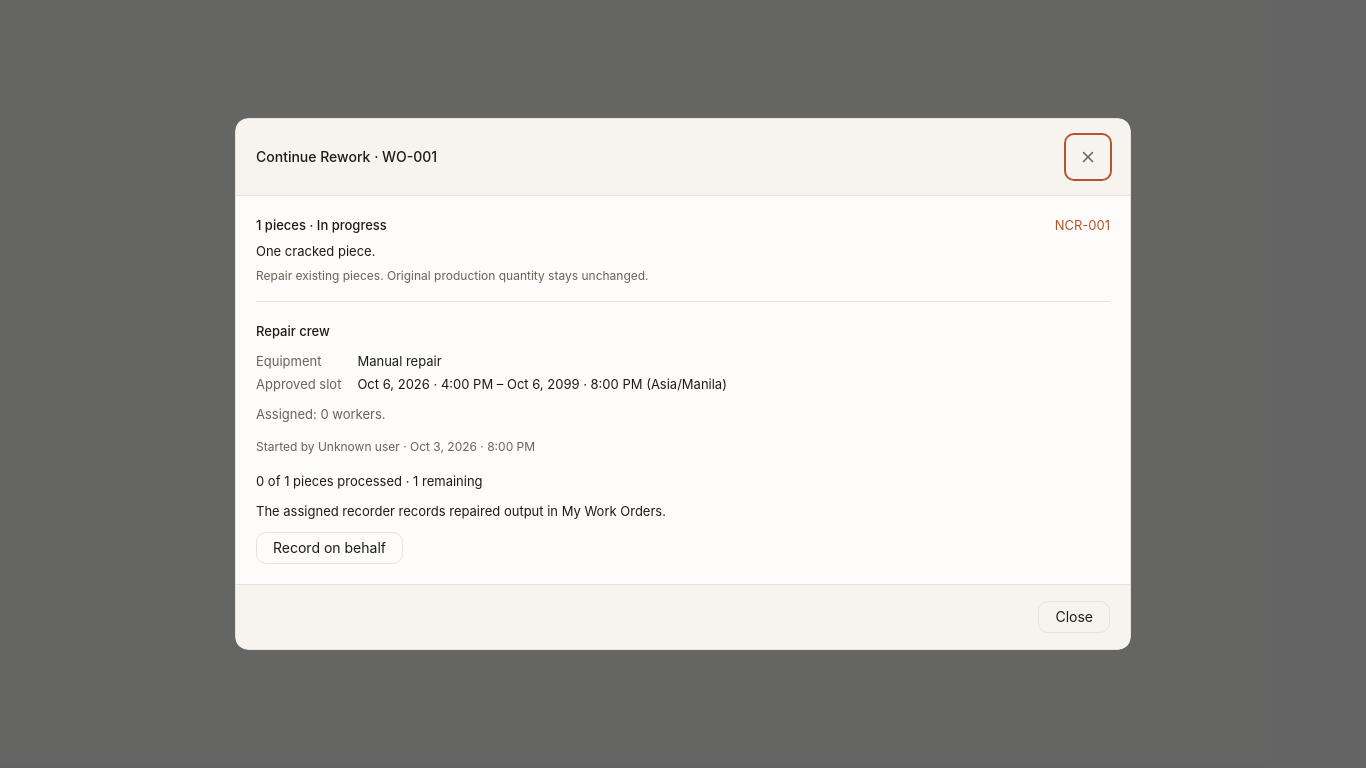
it: ReworkPanel › requires a defect type when recording rejected repair pieces
Click the button "Record on behalf" at (330, 548), box 256,532 -> 403,564
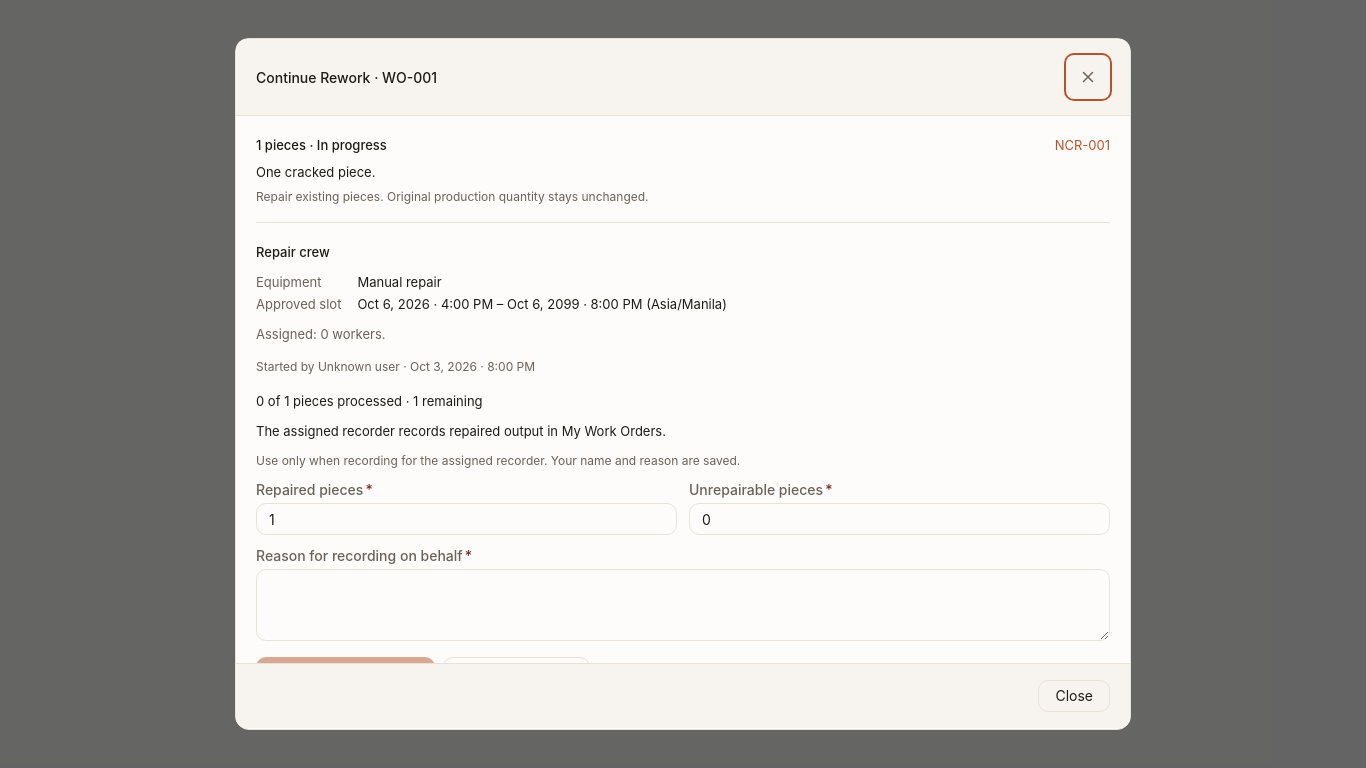
Replace the text in the number field labelled "Repaired pieces" with "0" at (466, 519), box 257,504 -> 676,534
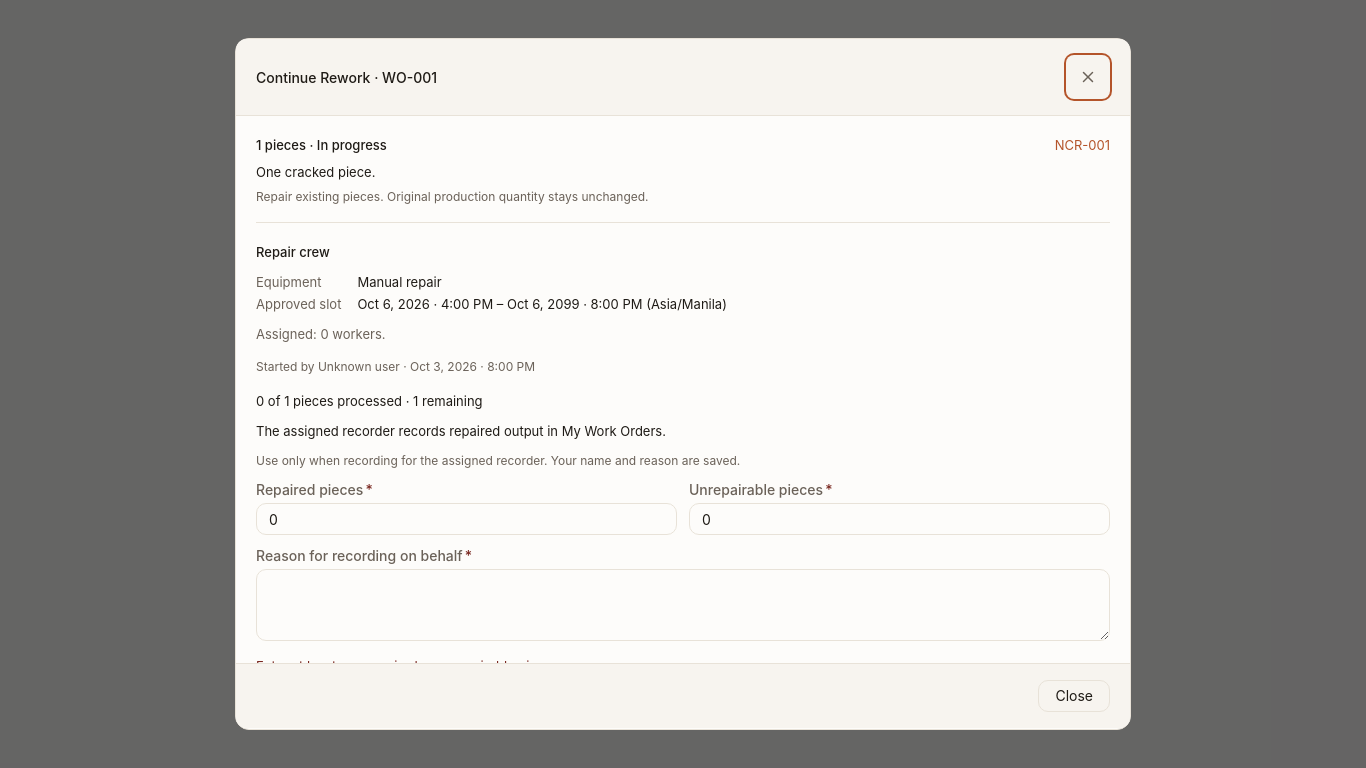
Replace the text in the number field labelled "Unrepairable pieces" with "1" at (900, 519), box 690,504 -> 1109,534
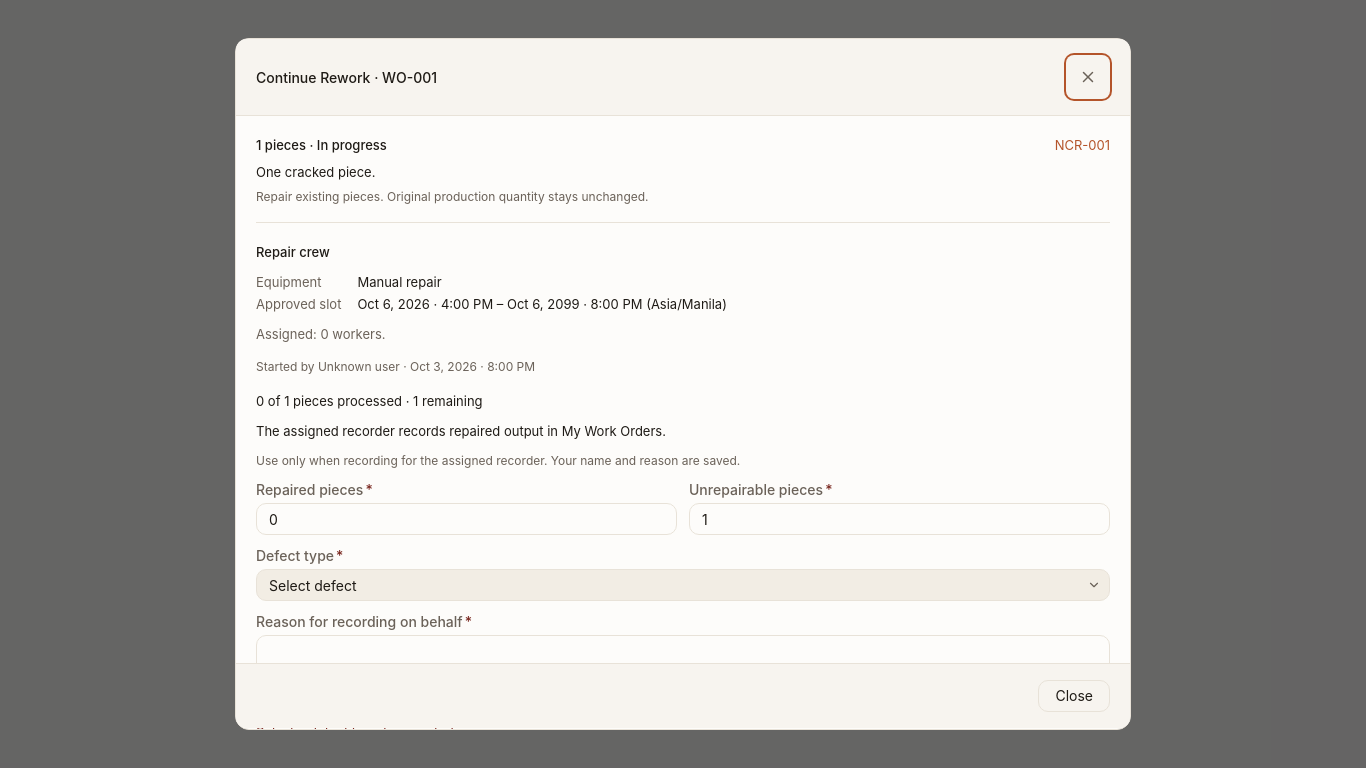
Expected: the dropdown labelled "Defect type" is shown, 257,570 -> 1109,600
